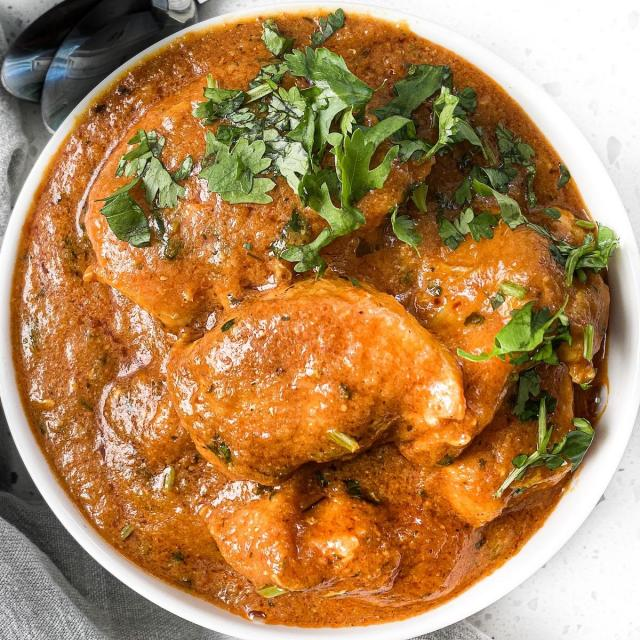chicken: (22, 24, 622, 610)
